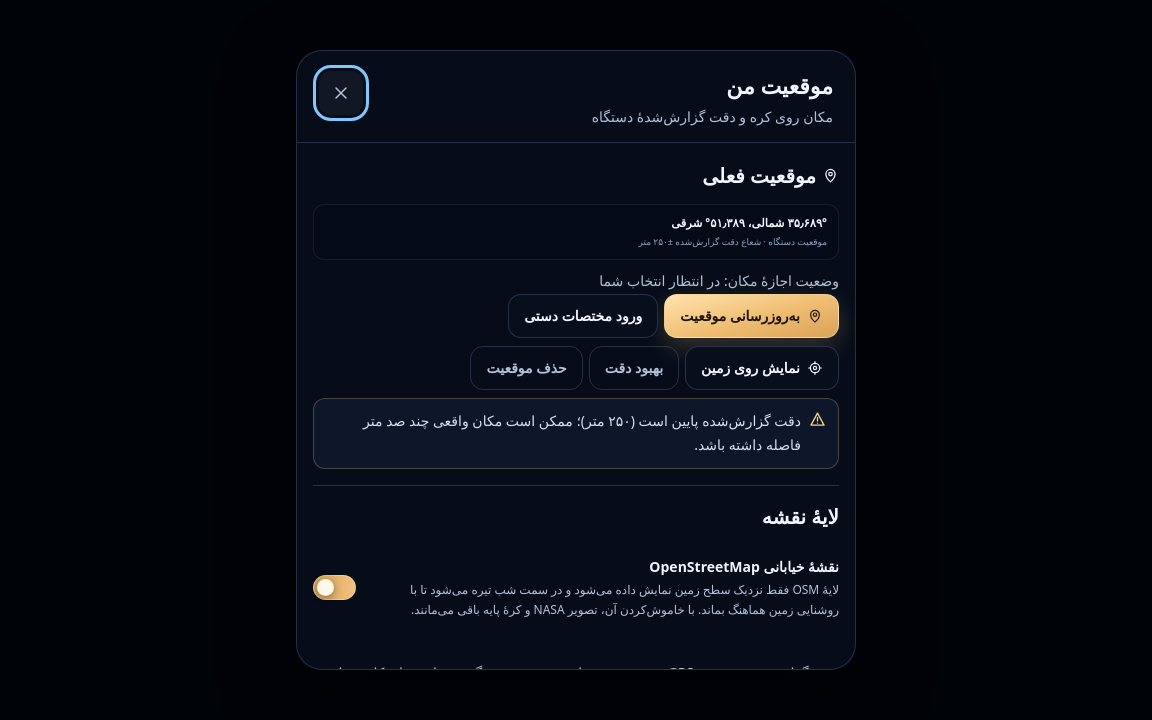
it: EarthLocationSheet › offers refinement and updates only when accuracy improves
Expected: the text "پایین است" is shown, 631,411 -> 801,430
Click the button "بهبود دقت": (634, 368) 589,346 -> 679,390
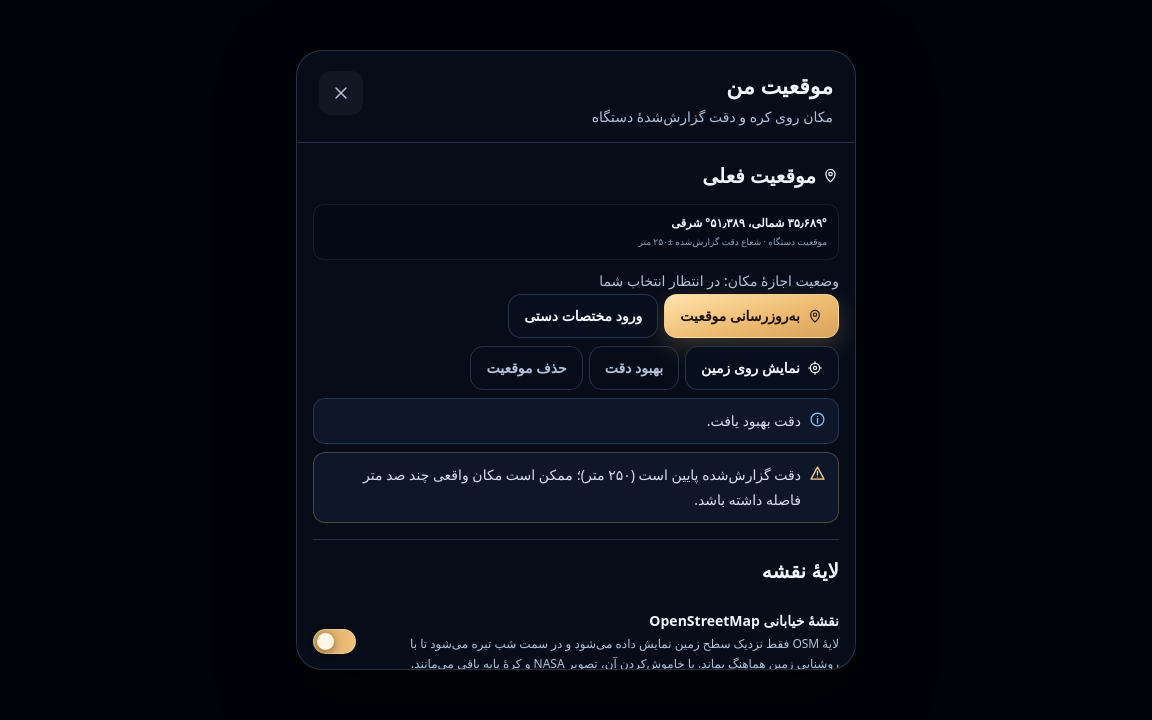
Now the text "دقت بهبود یافت." is shown, box 707,411 -> 801,430
